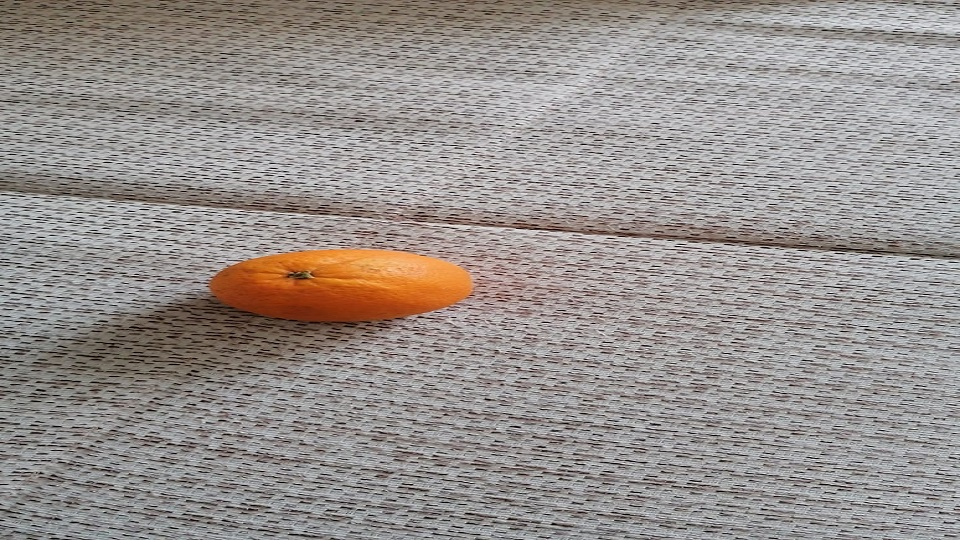portakal: (209, 249, 473, 323)
